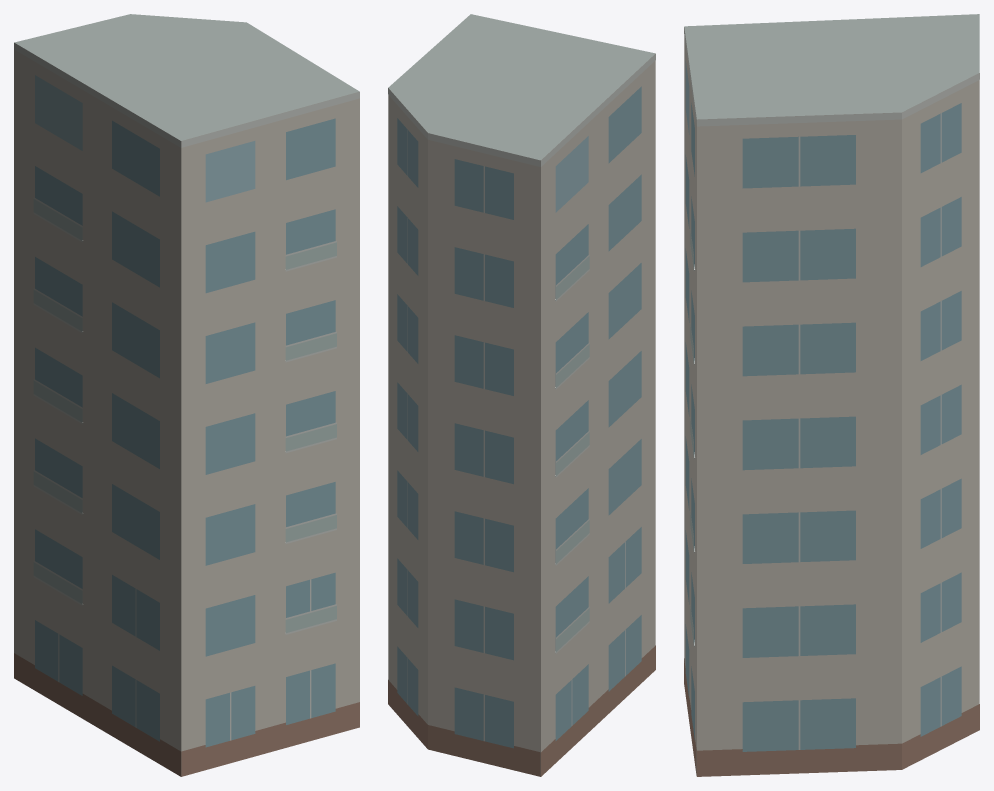
The model's file is survey-upis-32737975.glb.
3 views of the same model, side by side, from view 1: azimuth 30°, elevation 25°; view 2: azimuth 150°, elevation 25°; view 3: azimuth 270°, elevation 25° (orthographic). The views are drawn at different scales.
Parts seen in each view (by area): view 1: survey-upis-32737975.tmp; view 2: survey-upis-32737975.tmp; view 3: survey-upis-32737975.tmp.
Boxes of the visible parts, x1,y1,x2,y2 form: survey-upis-32737975.tmp: [14, 14, 359, 776]; survey-upis-32737975.tmp: [388, 14, 655, 776]; survey-upis-32737975.tmp: [684, 14, 979, 776].
Bounding box in the file's own units: 7.77 × 22.55 × 9.2.
